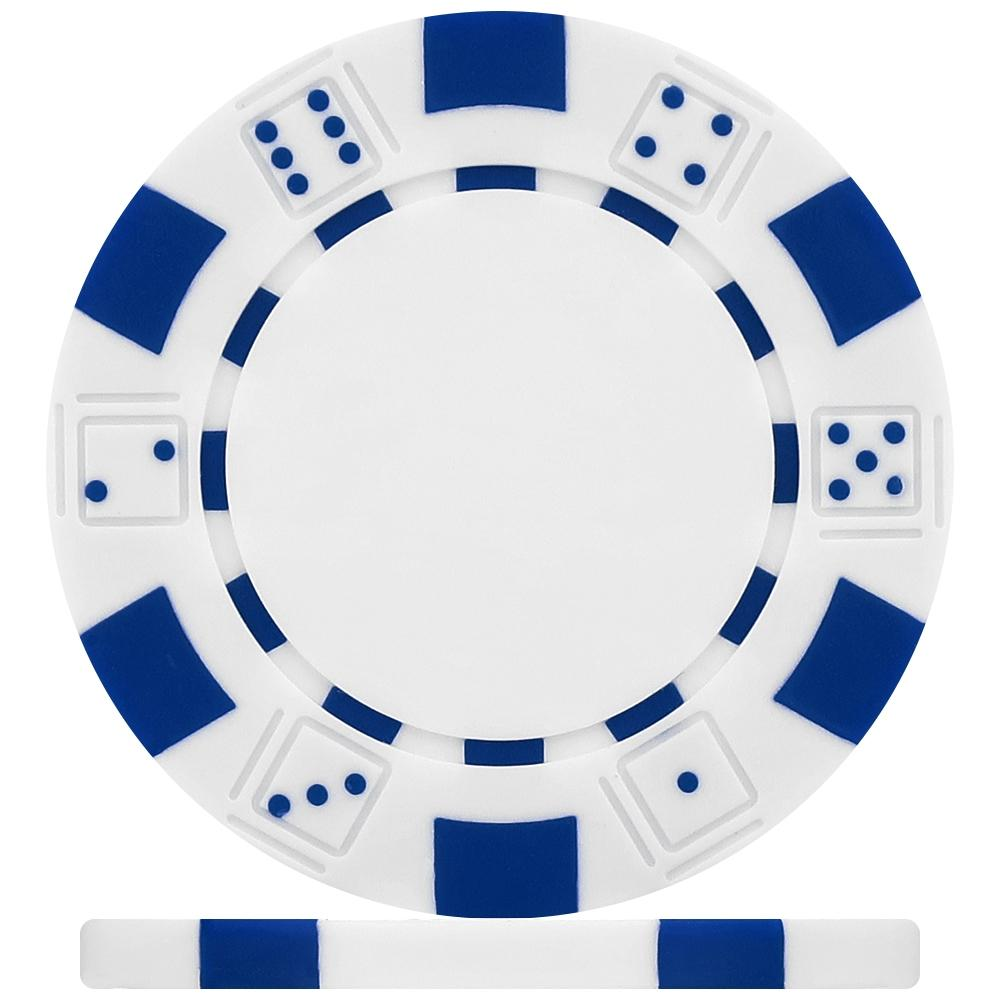chip-white: (49, 12, 951, 917), (80, 920, 920, 988)
